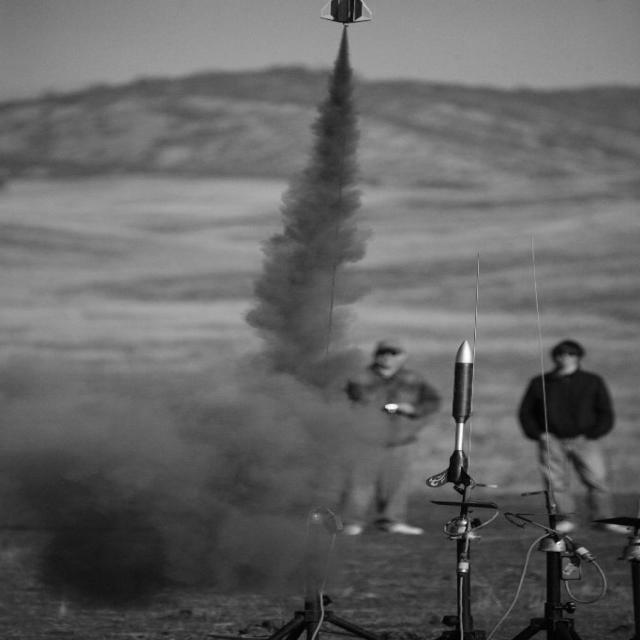missile: (434, 342, 480, 492)
